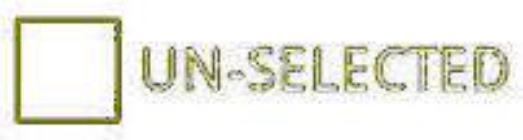CheckBox: (1, 1, 522, 139)
